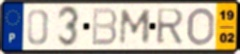0: (26, 8, 50, 47)
3: (56, 4, 81, 50)
B: (90, 7, 119, 47)
M: (117, 8, 153, 46)
O: (185, 6, 216, 47)
R: (155, 7, 186, 46)
